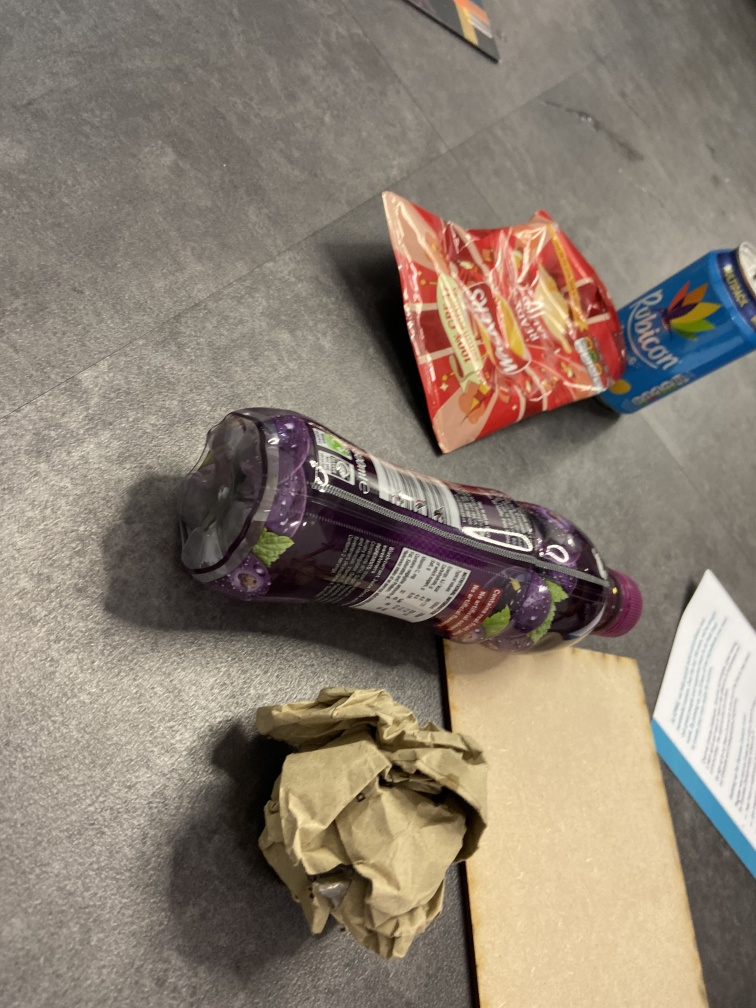bottle_purple: (170, 401, 651, 651)
can_blue: (593, 240, 756, 419)
paper_brown: (248, 685, 494, 961)
